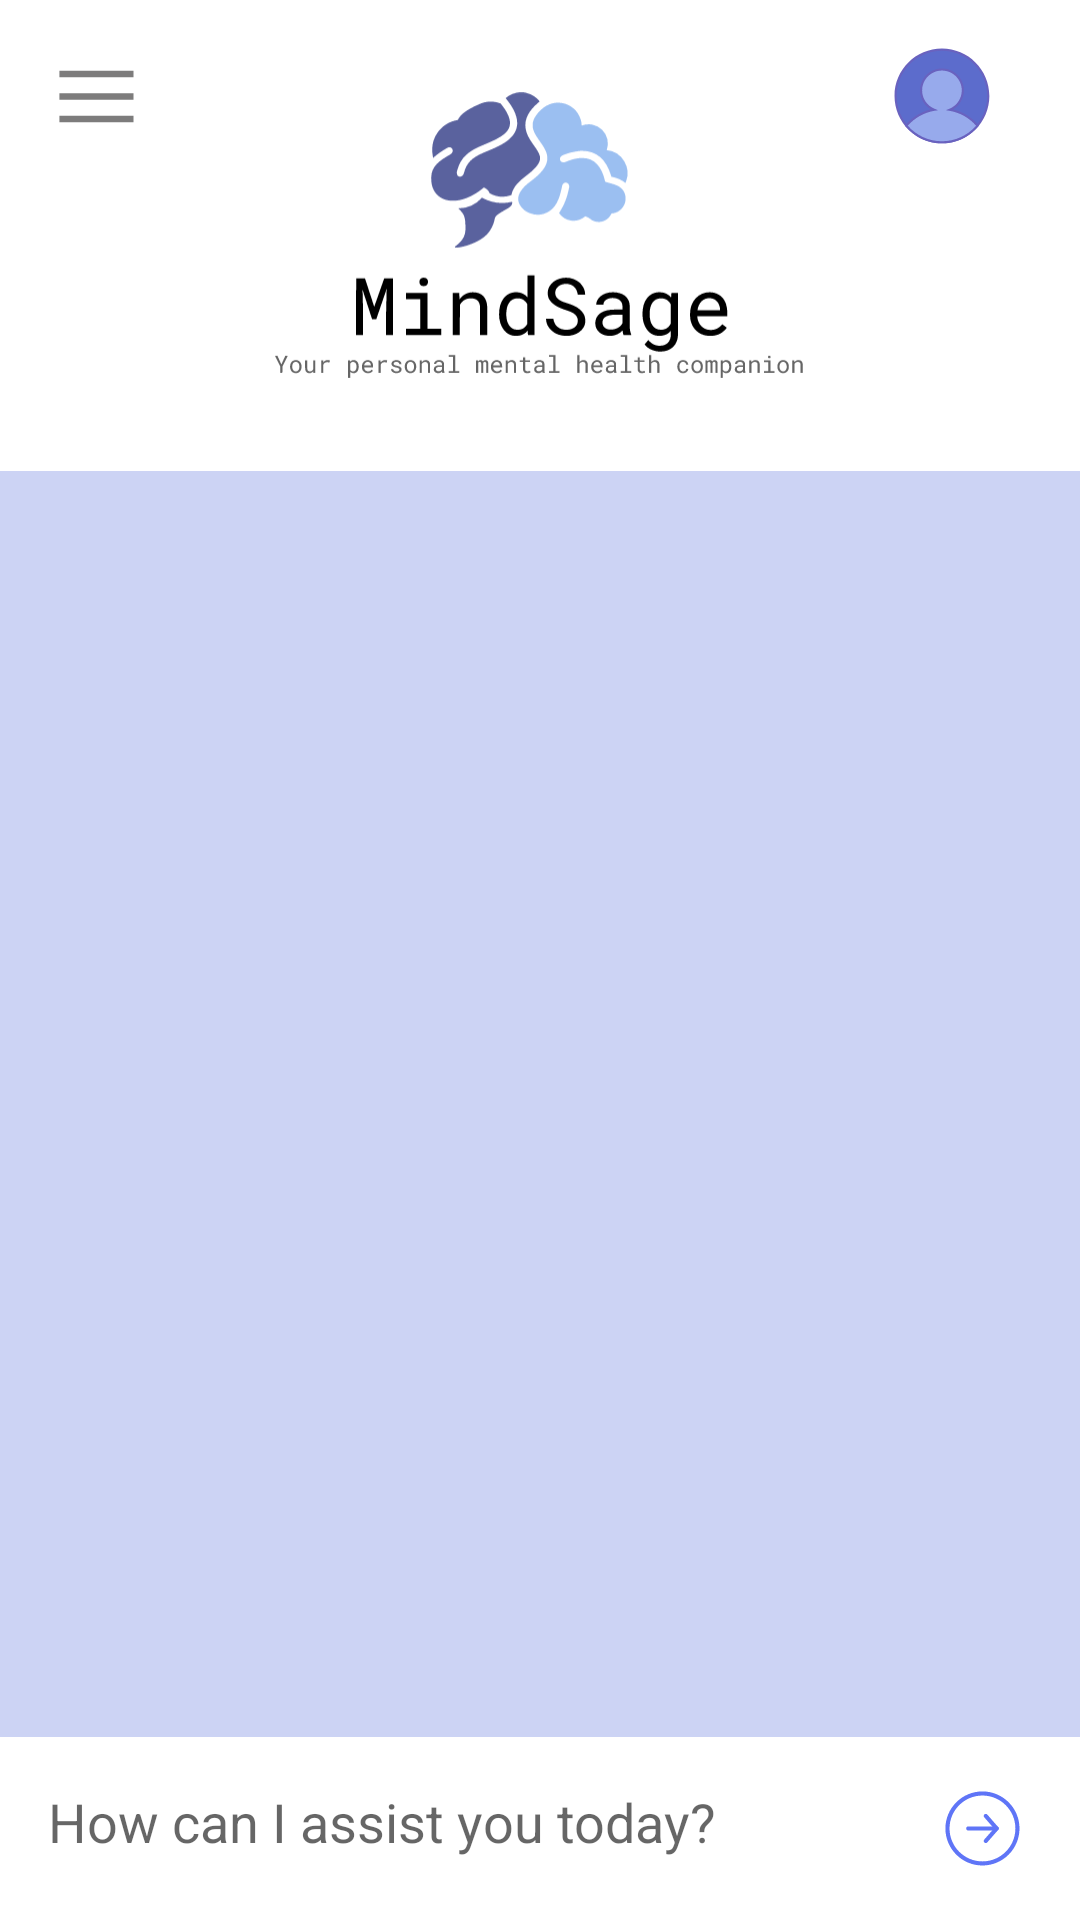

Icons on this 1080 × 1920 Android screen, each with the point to tap as [x,y]:
open menu: [96,96]
right arrow send: [982,1828]
user profile: [942,96]
